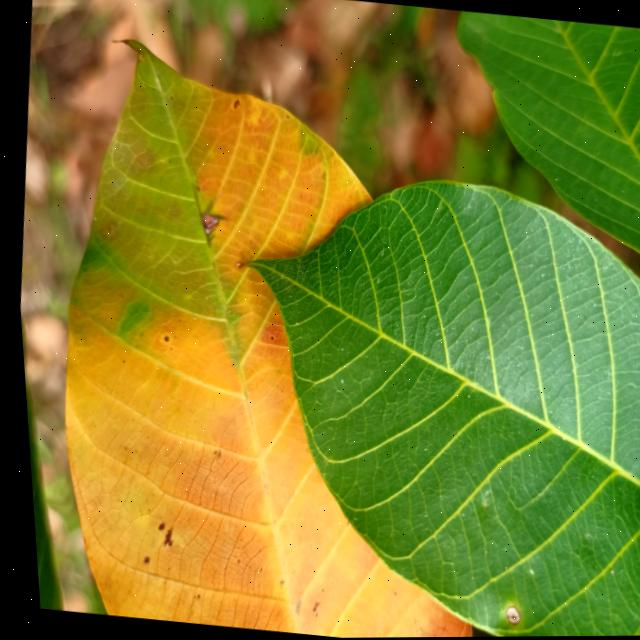Colletotrichum: (495, 605, 513, 625), (135, 555, 142, 563), (159, 335, 164, 341)
Corynespora: (182, 187, 230, 249)
